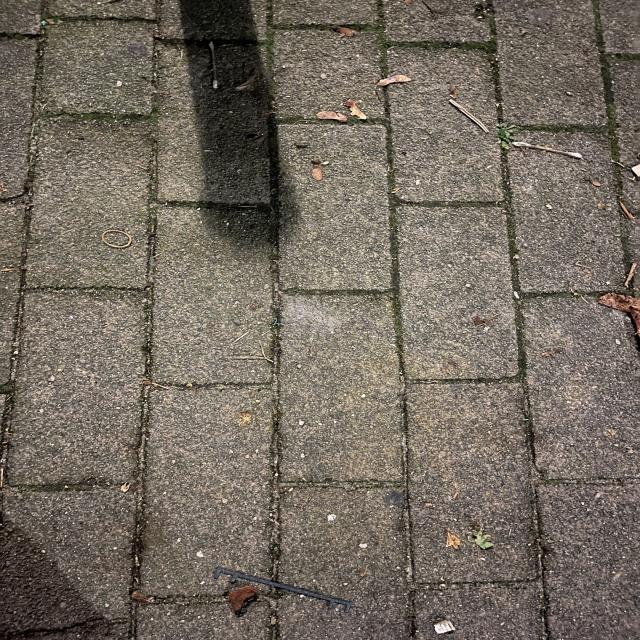leaves: (218, 580, 270, 615), (601, 290, 640, 321), (314, 106, 371, 124), (365, 73, 423, 87)
pavement: (3, 1, 640, 640)
weed: (495, 121, 521, 152)
